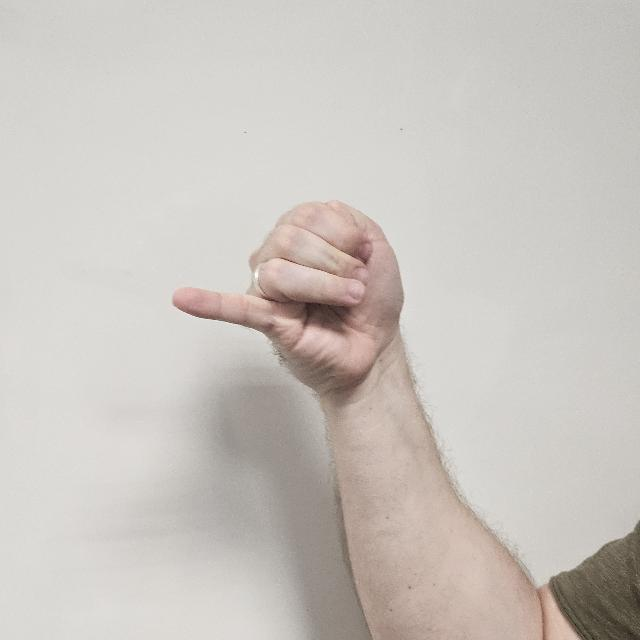Esquerda: (153, 200, 433, 408)
